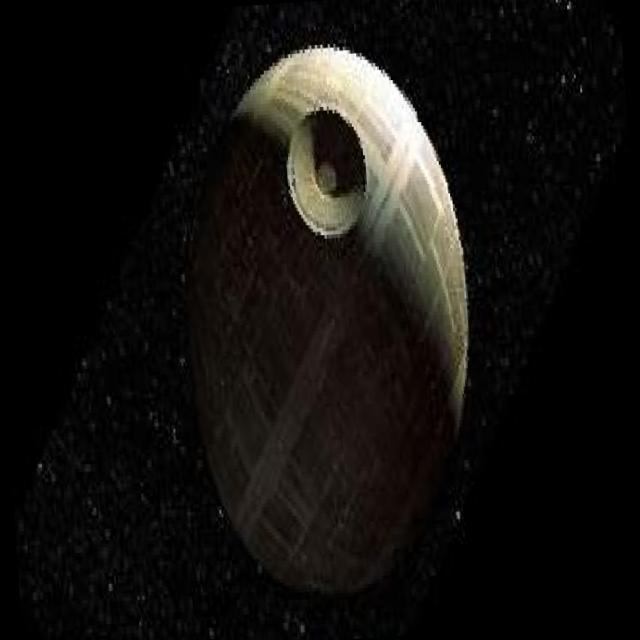Death Star: (163, 27, 493, 616)
